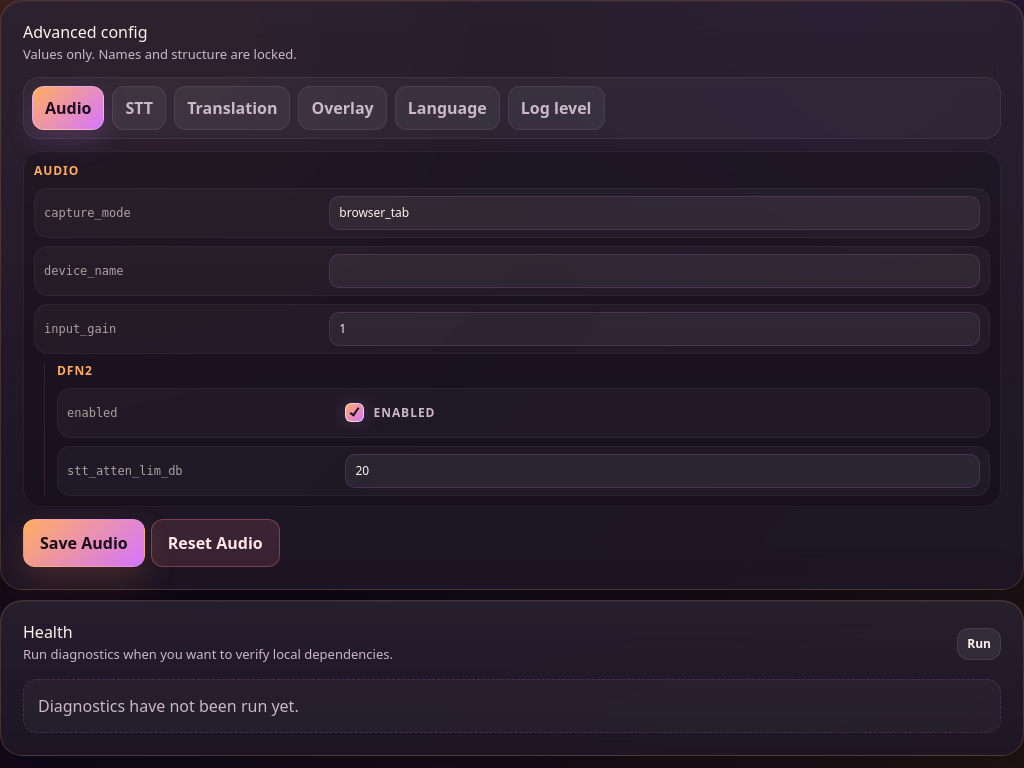
AdvancedSettingsPanel › requires confirmation before resetting a section
Click the button "Reset Audio". click: {"x": 215, "y": 543}
box: x1=151 y1=519 x2=280 y2=567
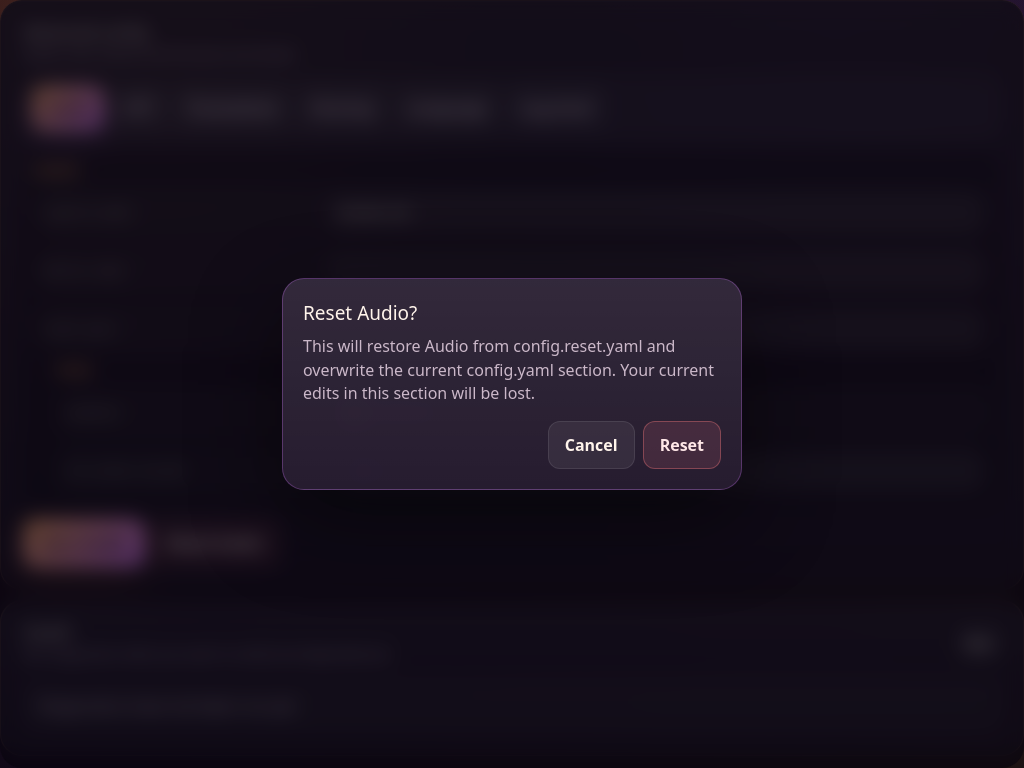
Now the dialog is shown, box x1=282 y1=278 x2=742 y2=490
Click the button "Cancel". click: {"x": 591, "y": 445}
box: x1=548 y1=421 x2=635 y2=469
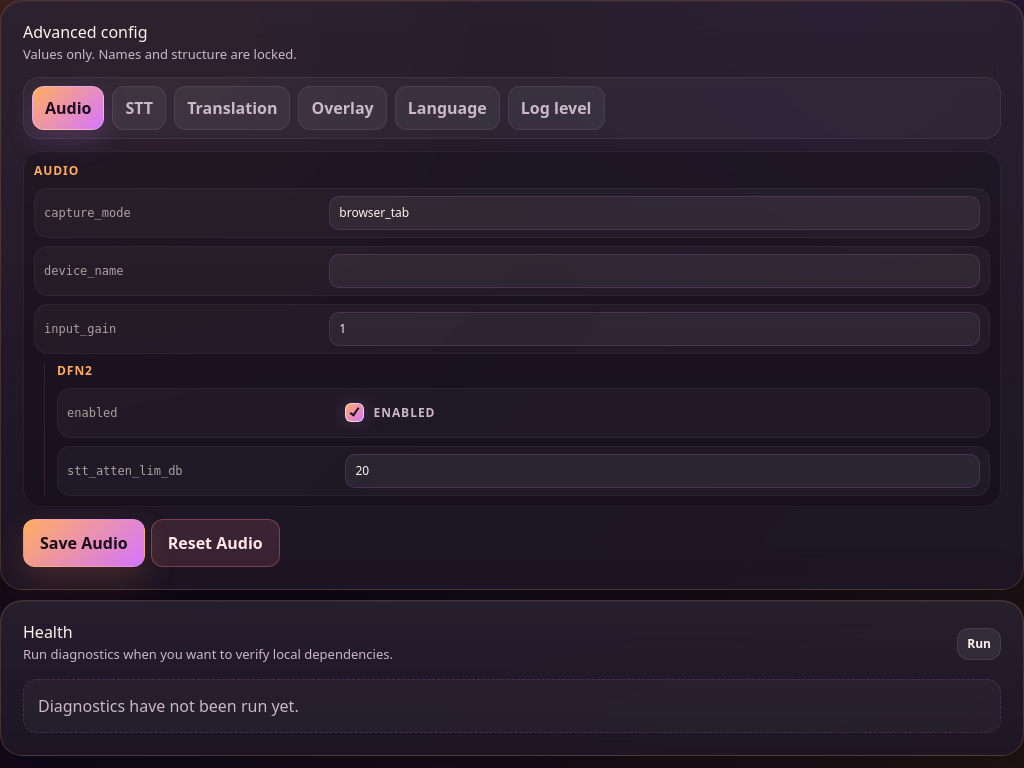
Now the dialog is gone
